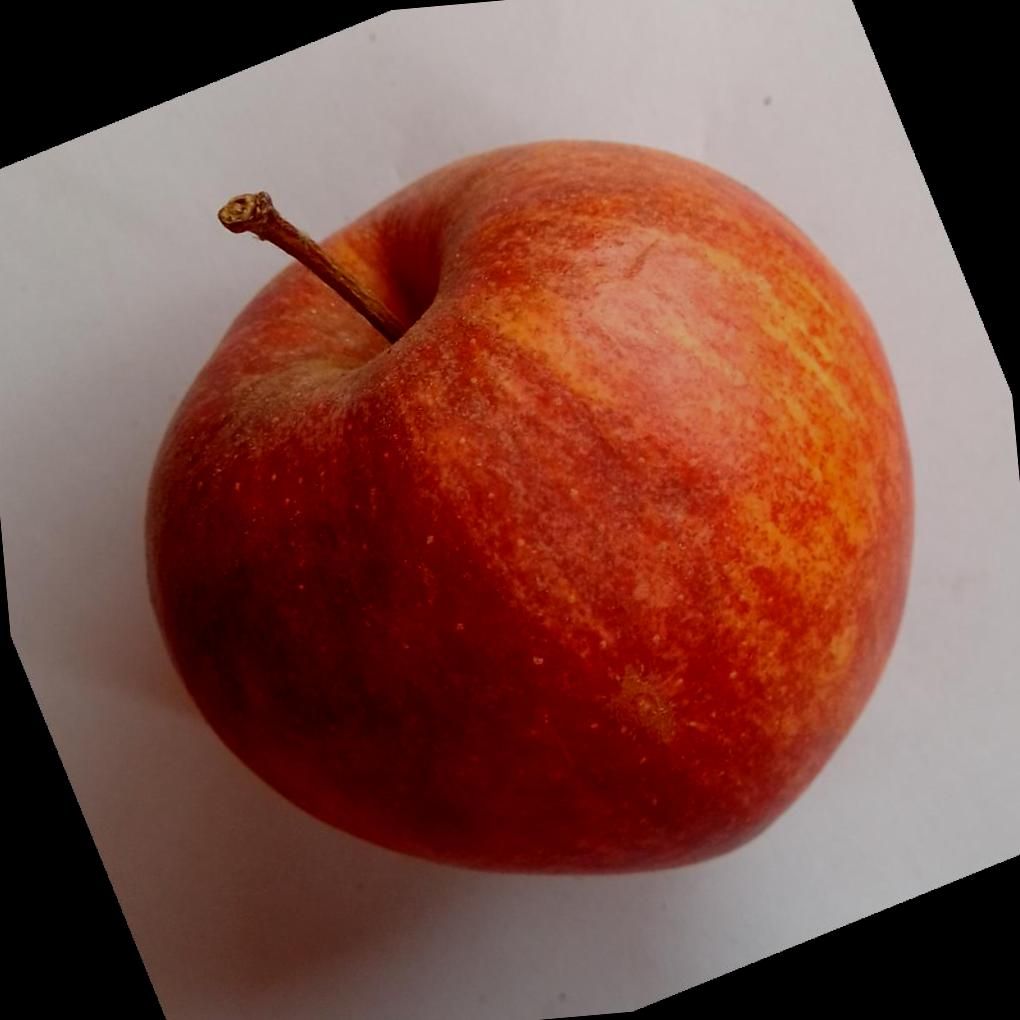FreshGuava: (140, 131, 917, 875)
